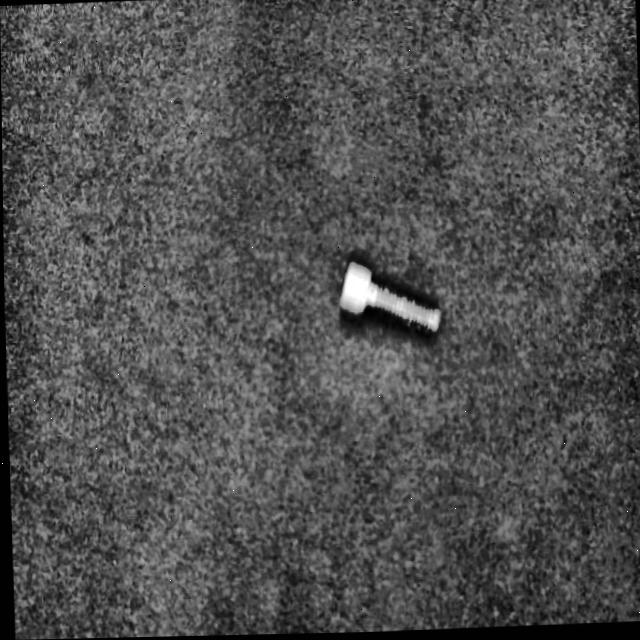Socket head cap screw: (336, 257, 440, 341)
